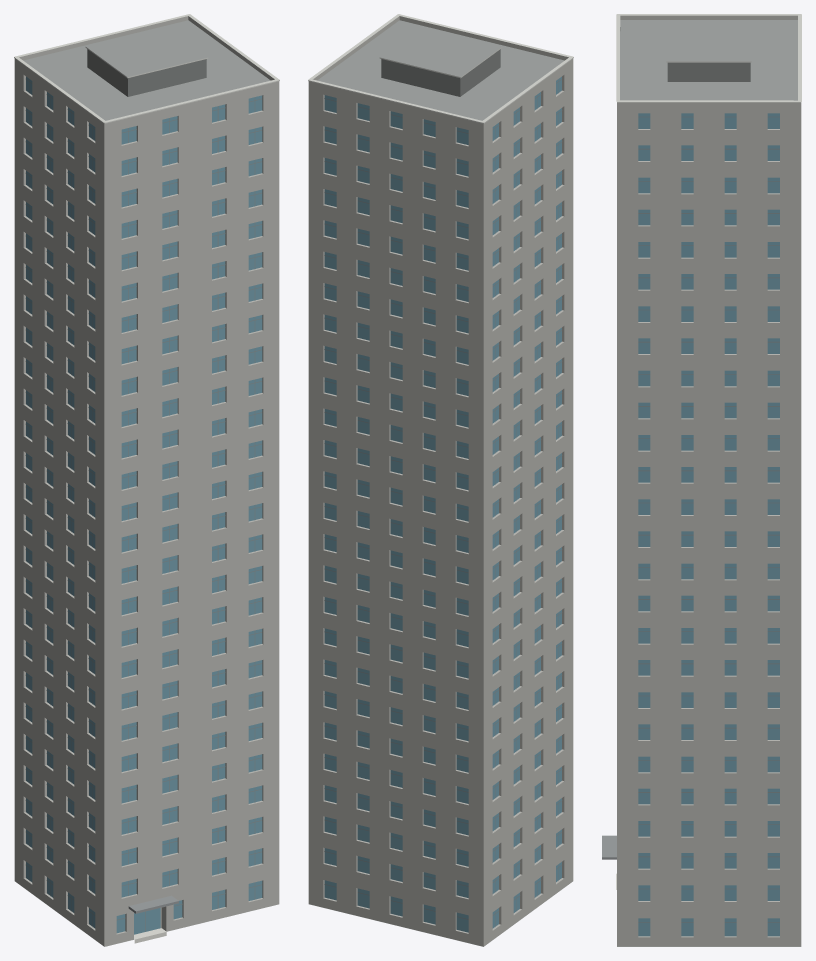
The picture shows the model from 3 angles, left to right: view 1: azimuth 30°, elevation 25°; view 2: azimuth 150°, elevation 25°; view 3: azimuth 270°, elevation 25°; orthographic projection. The views are drawn at different scales.
Visible parts, largest first — view 1: unist-batch-b303__parapet, b303__glass, b303__frame, b303__trim; view 2: unist-batch-b303__parapet, b303__glass, b303__frame, b303__trim; view 3: unist-batch-b303__parapet, b303__glass, b303__frame, b303__trim.
Part boxes in pixels (x1,y1,x2,y2): unist-batch-b303__parapet: (14, 16, 279, 946); b303__glass: (26, 76, 262, 934); b303__frame: (25, 79, 262, 931); b303__trim: (14, 14, 279, 123); unist-batch-b303__parapet: (308, 16, 573, 946); b303__glass: (324, 76, 561, 932); b303__frame: (324, 79, 562, 926); b303__trim: (308, 14, 573, 123); unist-batch-b303__parapet: (617, 15, 801, 946); b303__glass: (638, 113, 779, 936); b303__frame: (638, 116, 779, 922); b303__trim: (616, 14, 801, 102).
Size of the model in its own units: 19.68 by 90.15 by 18.85.
